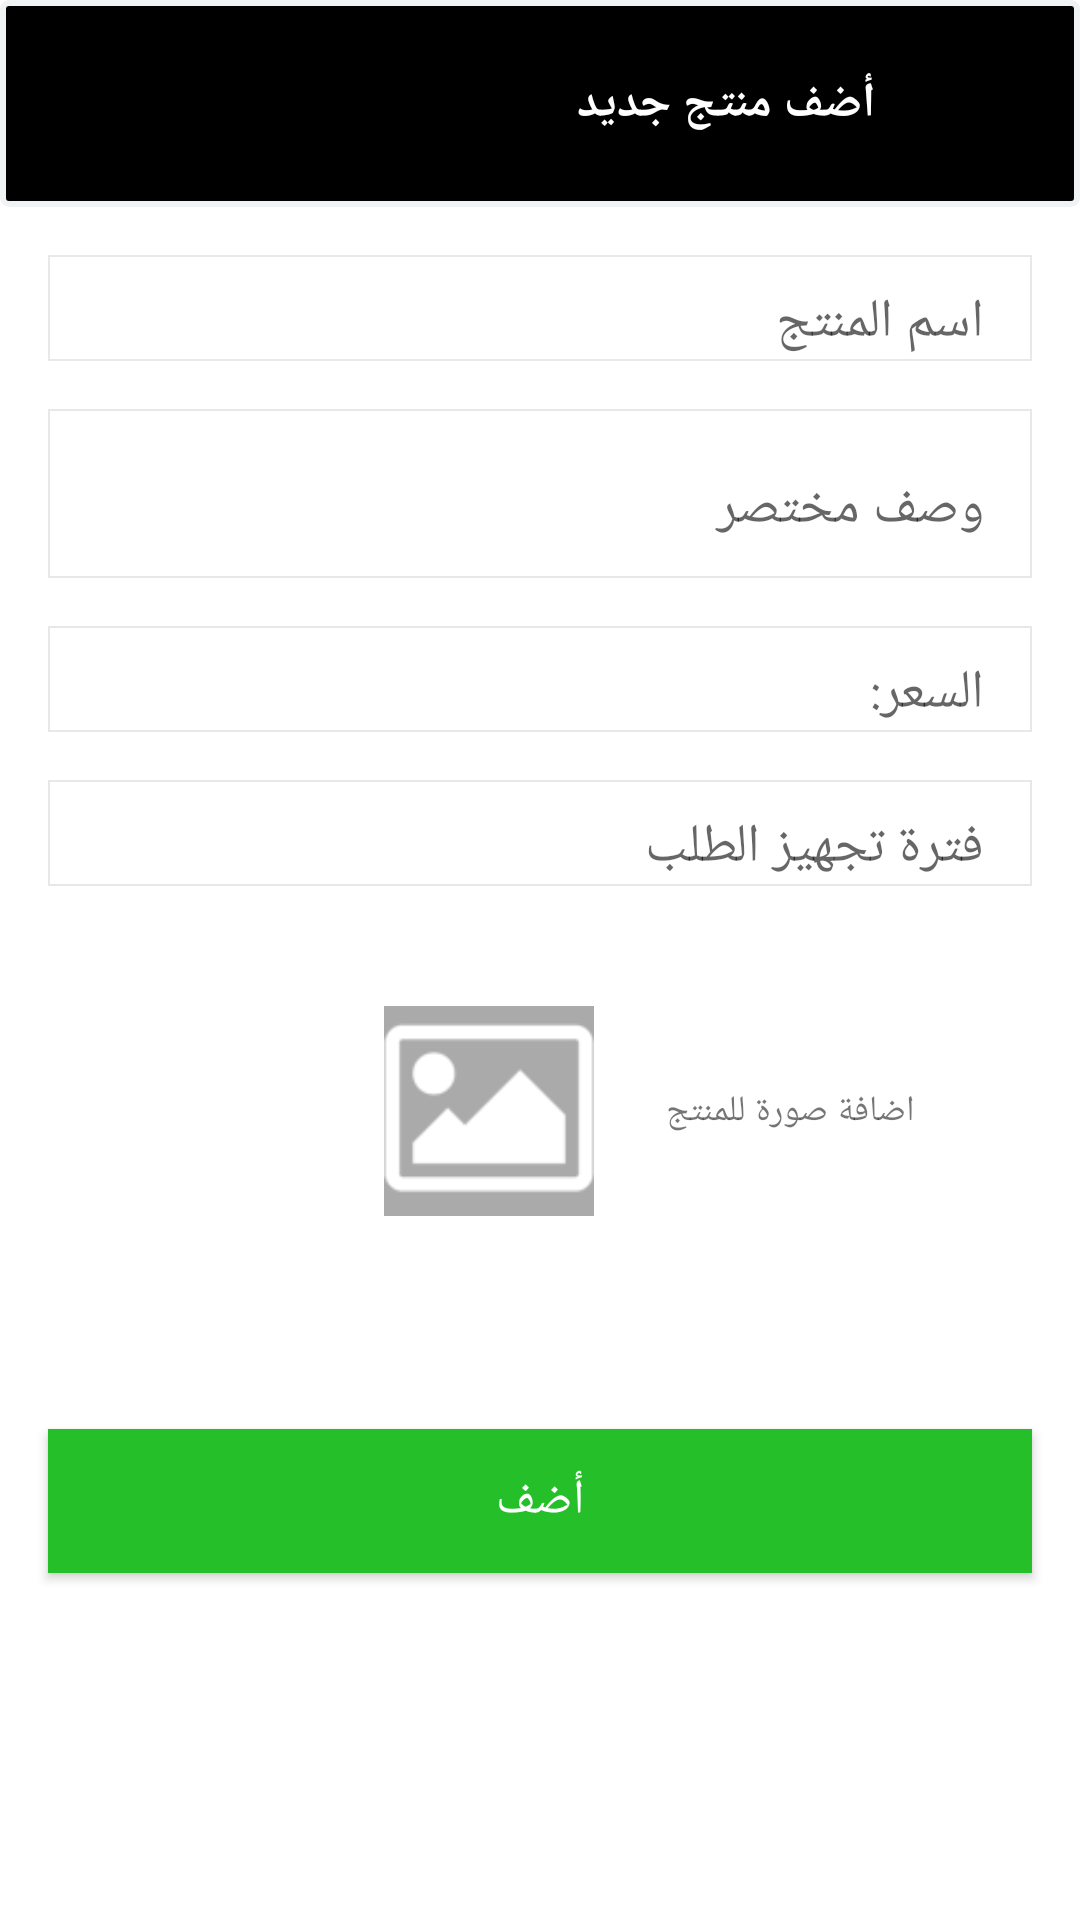

Named icons in this screenshot (1080w x 1920h) and their centers, point (x, y):
photo: point (489, 1111)
